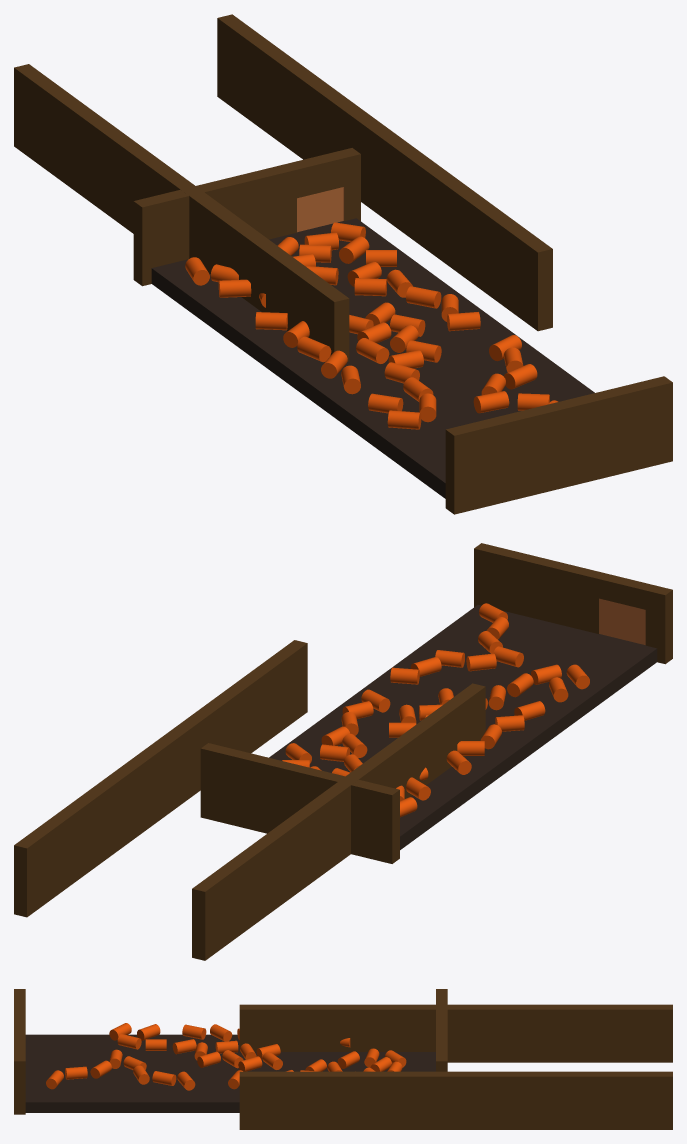
File: ProjDev_ILR.fbx
The picture shows the model from 3 angles, top to bottom: view 1: azimuth 30°, elevation 25°; view 2: azimuth 150°, elevation 25°; view 3: azimuth 270°, elevation 25°; orthographic projection. The views are drawn at different scales.
Visible parts, largest first — view 1: Cube__76_006, Floor_ILR, Cube__76_008, Cube__76_009, Cube__76_007, Door Enter ILR; view 2: Floor_ILR, Cube__76_006, Cube__76_008, Cube__76_007, Cube__76_009, Door Exit ILR; view 3: Cube__76_006, Cube__76_008, Floor_ILR, Cube__76_009, Cube__76_007, Cylinder019, Cylinder037, Cylinder039, Cylinder016, Cylinder017, Cylinder032, Cylinder028 (+10 smaller).
Boxes of the visible parts, x1,y1,x2,y2 form: Cube__76_006: (217, 14, 552, 331); Floor_ILR: (151, 218, 594, 498); Cube__76_008: (14, 64, 349, 361); Cube__76_009: (445, 376, 672, 514); Cube__76_007: (133, 148, 360, 286); Door Enter ILR: (297, 187, 344, 232); Floor_ILR: (269, 605, 657, 849); Cube__76_006: (14, 640, 307, 917); Cube__76_008: (192, 683, 485, 960); Cube__76_007: (200, 743, 399, 863); Cube__76_009: (474, 543, 672, 664); Door Exit ILR: (599, 598, 645, 644); Cube__76_006: (239, 1071, 672, 1129); Cube__76_008: (239, 1004, 672, 1062); Floor_ILR: (25, 1034, 435, 1112); Cube__76_009: (14, 989, 25, 1114); Cube__76_007: (436, 989, 447, 1071); Cylinder019: (117, 1034, 141, 1049); Cylinder037: (182, 1024, 206, 1039); Cylinder039: (152, 1071, 176, 1085); Cylinder016: (172, 1039, 196, 1054); Cylinder017: (197, 1051, 220, 1067); Cylinder032: (65, 1066, 87, 1079); Cylinder028: (238, 1056, 262, 1071).
Bounding box in the file's own units: 1774 × 504 × 5640.
